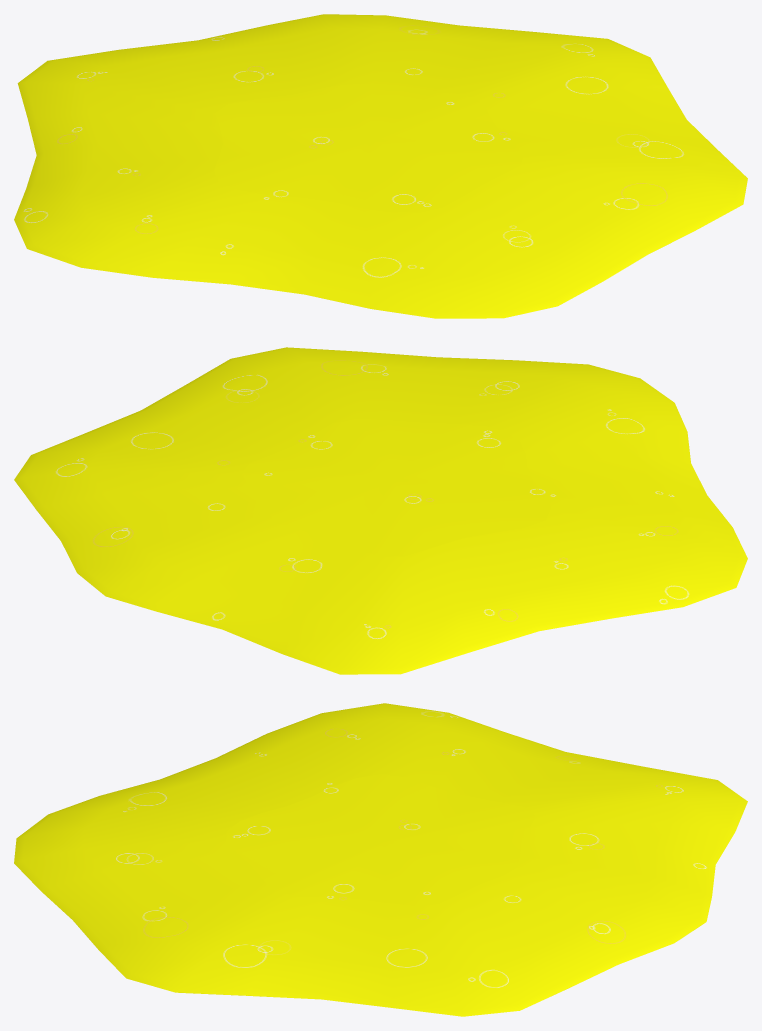
Rendered from konnseki_sann.fbx.
The picture shows the model from 3 angles, top to bottom: view 1: azimuth 30°, elevation 25°; view 2: azimuth 150°, elevation 25°; view 3: azimuth 270°, elevation 25°; orthographic projection. The views are drawn at different scales.
Visible parts, largest first — view 1: sann; view 2: sann; view 3: sann.
Part boxes in pixels (x1,y1,x2,y2): sann: [14, 14, 747, 318]; sann: [14, 347, 747, 674]; sann: [14, 703, 747, 1016].
Bounding box in the file's own units: 57.43 × 2 × 56.82.
1 material, 1 textured.
